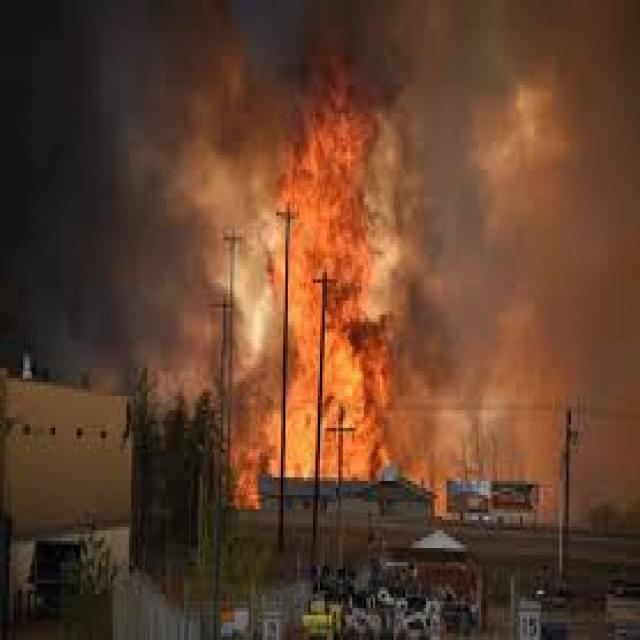Fire: (241, 98, 458, 473)
Smoke: (0, 0, 272, 434), (475, 21, 640, 576)
